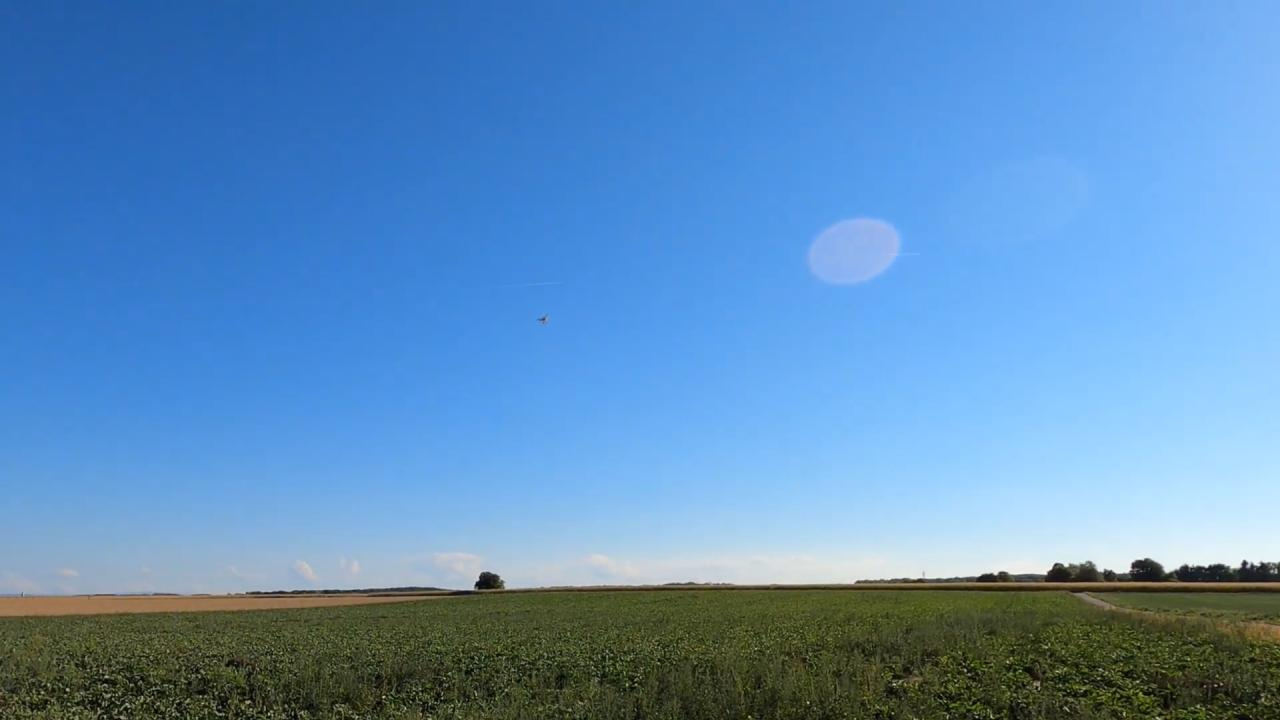Drone: (527, 305, 559, 333)
